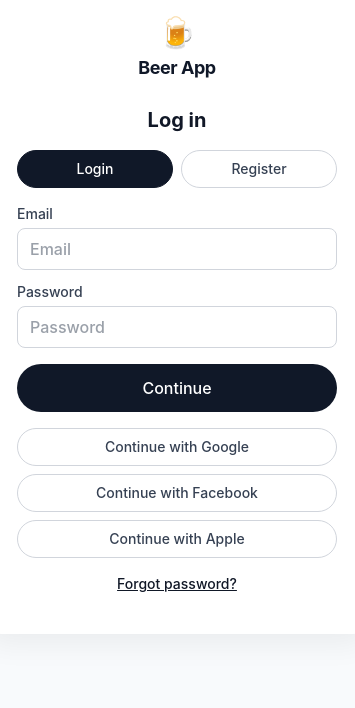
Test: AuthPage › shows the API error message when registration fails
Click the button "Register": (259, 169) [181,150,337,188]
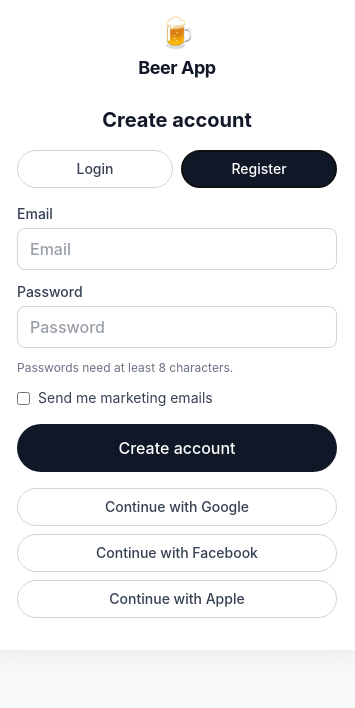
In the field with placeholder "Email": (177, 249) [17,228,337,270], type "dup@example.com"
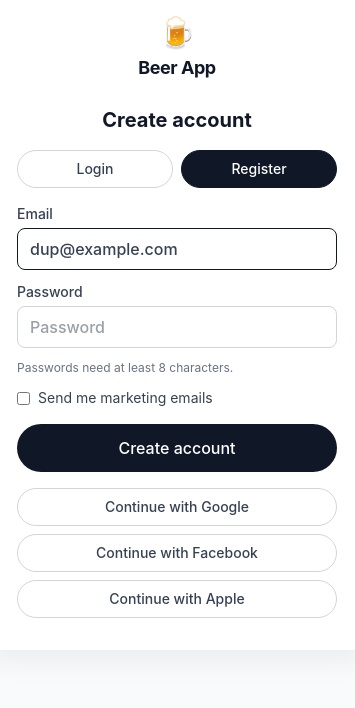
In the password field with placeholder "Password": (177, 327) [17,306,337,348], type "Passw0rd!"
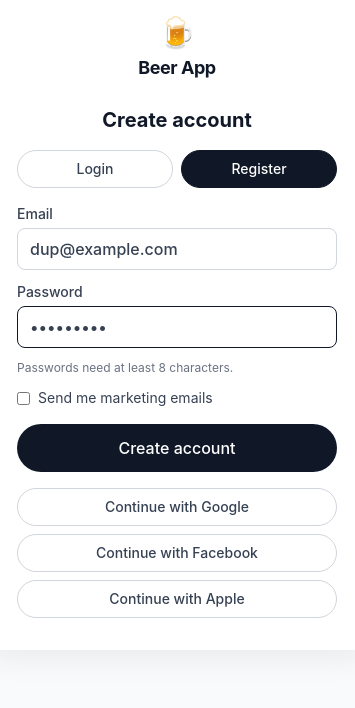
Click the button "Create account": (177, 448) [17,424,337,472]
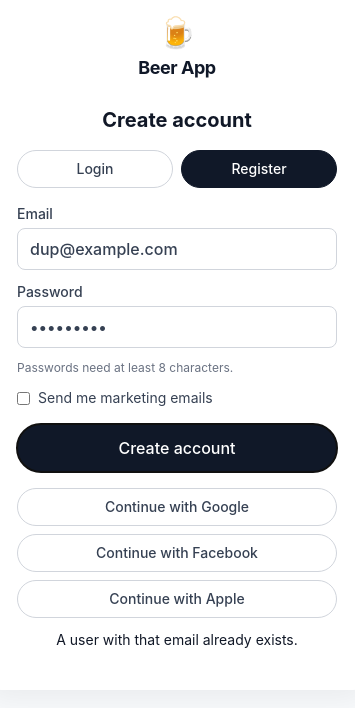
Check: the text "A user with that email already exists." is shown, box [56,631,298,648]
